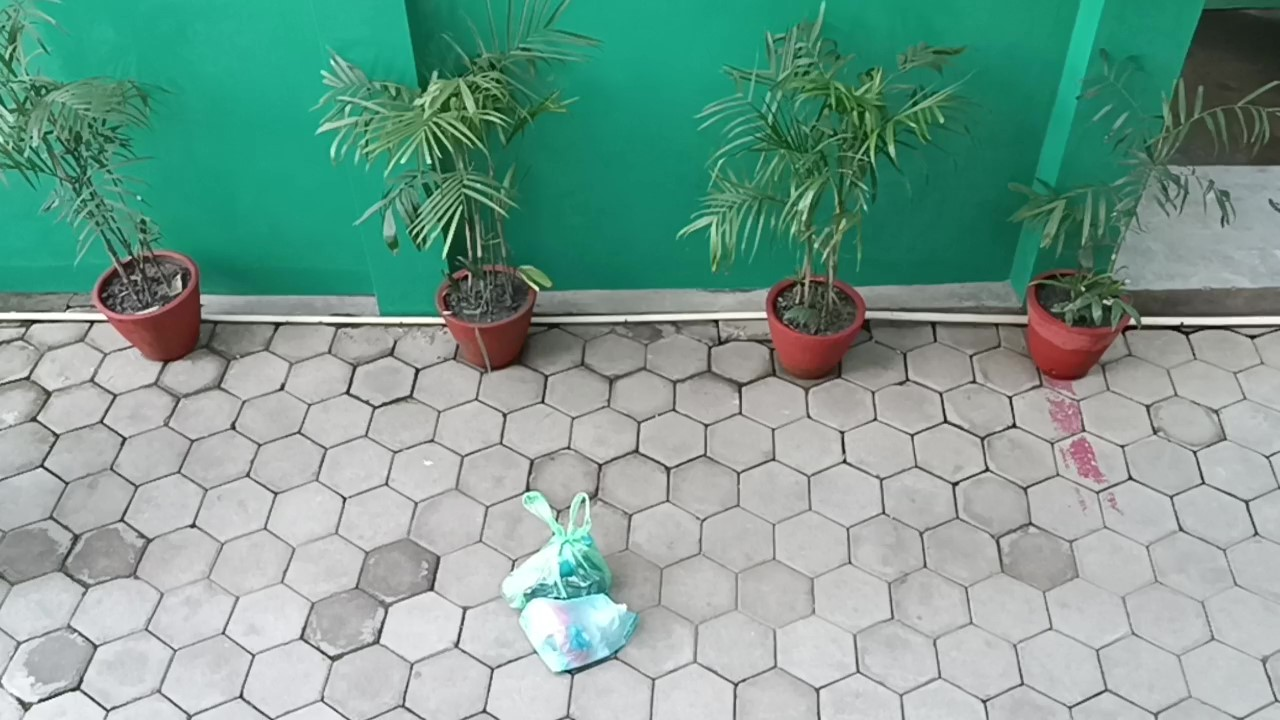thrownwaste: (508, 490, 623, 609), (519, 594, 643, 671)
